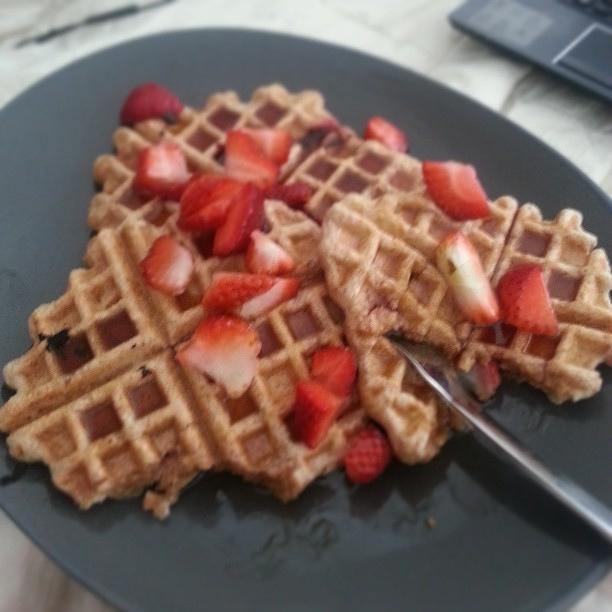strawberry: (174, 312, 262, 400), (176, 173, 264, 256), (433, 228, 500, 328), (496, 264, 560, 335), (132, 138, 202, 202), (422, 161, 492, 221), (138, 235, 196, 296), (224, 131, 280, 191), (294, 380, 342, 449), (201, 271, 276, 313), (119, 82, 184, 128), (344, 425, 392, 484), (240, 276, 302, 321), (245, 228, 295, 276), (308, 346, 356, 395), (236, 127, 293, 167), (459, 358, 502, 402), (362, 115, 409, 153), (262, 184, 312, 212)
